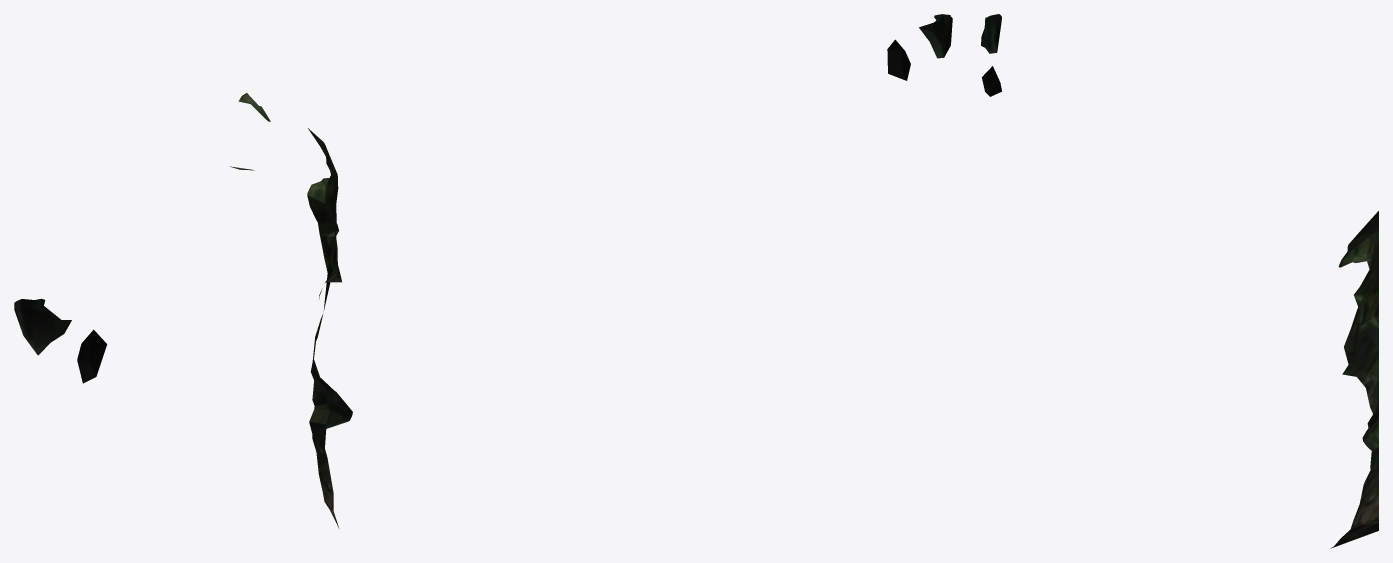
3 renders of one model, left to right at view 1: azimuth 30°, elevation 25°; view 2: azimuth 150°, elevation 25°; view 3: azimuth 270°, elevation 25°, orthographic. The views are drawn at different scales.
Size of the model in its own units: 1.62 by 1.67 by 1.64.
1 material, 1 textured.
